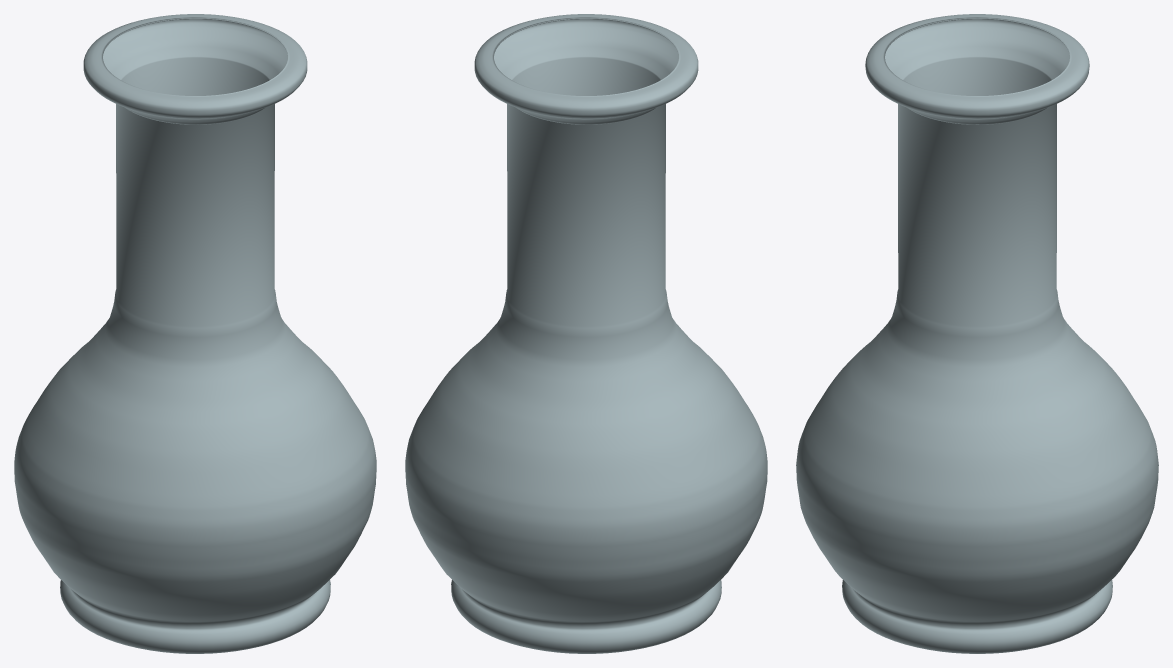
The model's file is frasco.glb.
3 views of the same model, side by side, from view 1: azimuth 30°, elevation 25°; view 2: azimuth 150°, elevation 25°; view 3: azimuth 270°, elevation 25° (orthographic).
Parts seen in each view (by area): view 1: Object_2; view 2: Object_2; view 3: Object_2.
Boxes of the visible parts, <box> form: Object_2: <box>14,14,376,653</box>; Object_2: <box>405,14,767,653</box>; Object_2: <box>796,14,1158,653</box>.
Size of the model in its own units: 2.61 by 4.38 by 2.61.
